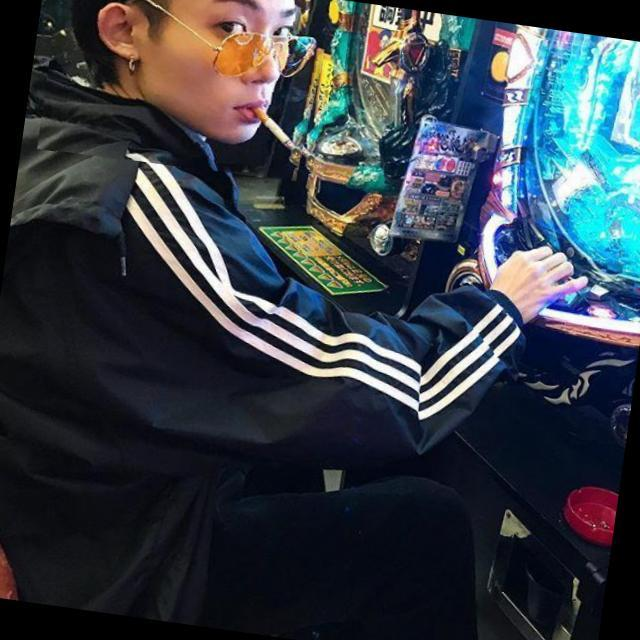cigarette: (248, 80, 325, 172)
